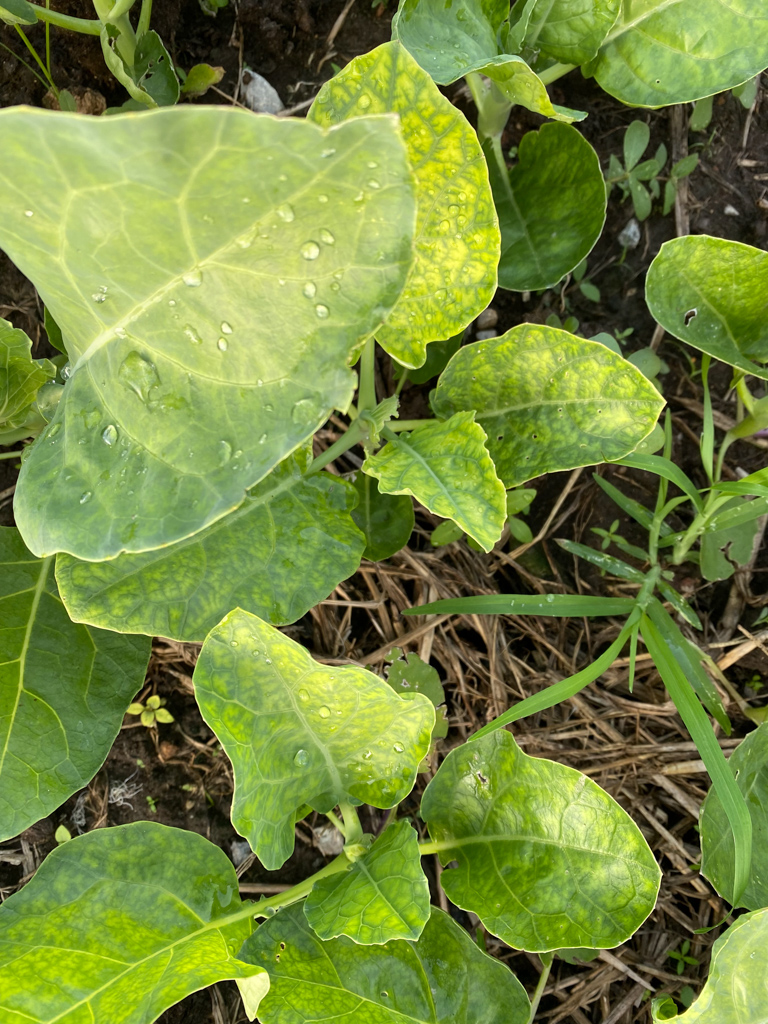Pepper yellow leaf: (377, 54, 510, 367), (269, 635, 420, 776), (447, 330, 659, 408)
